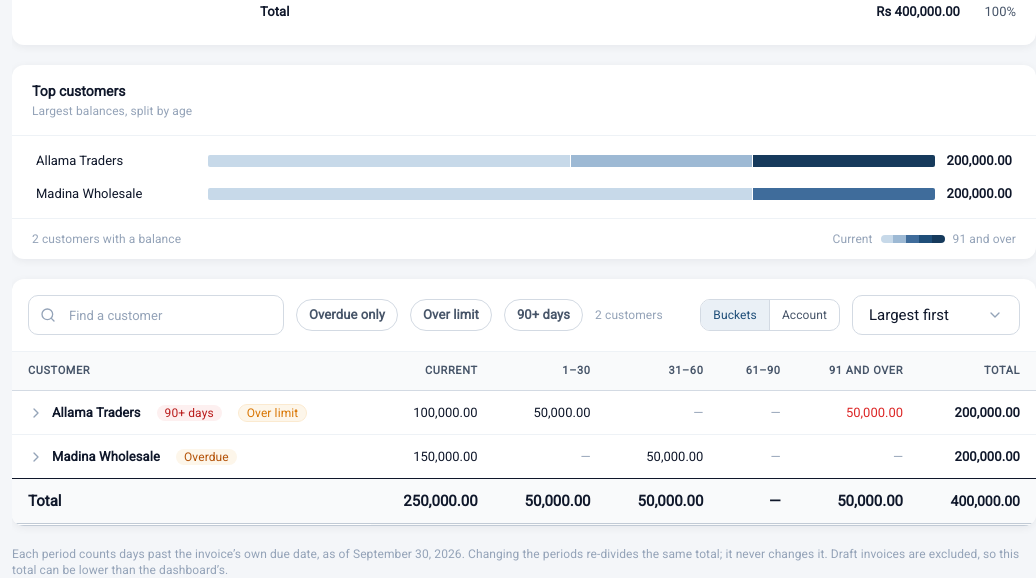
ArAgingPage (reports v2) › filters to parties over their credit limit, and keeps the footer the server’s
(page scrolled)
Expected: the button "Madina Wholesale Overdue" is shown, [28, 448, 237, 466]
Click the button "Over limit" at (451, 315), box [410, 299, 492, 331]
(page scrolled)
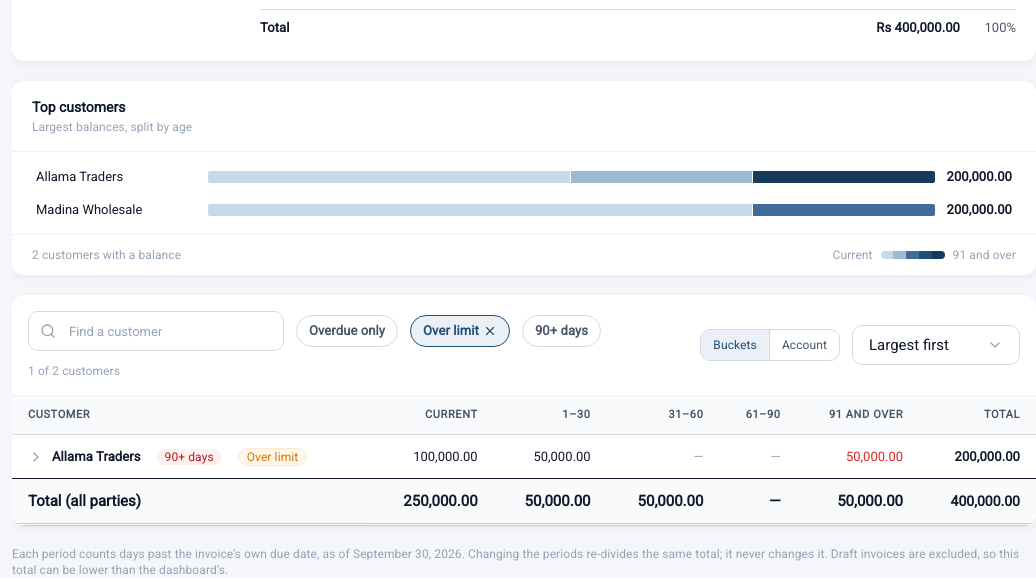
Expected: the text "Over limit" is shown, [238, 448, 307, 466]
Expected: the text "Total (all parties)" is shown, [12, 478, 371, 524]
